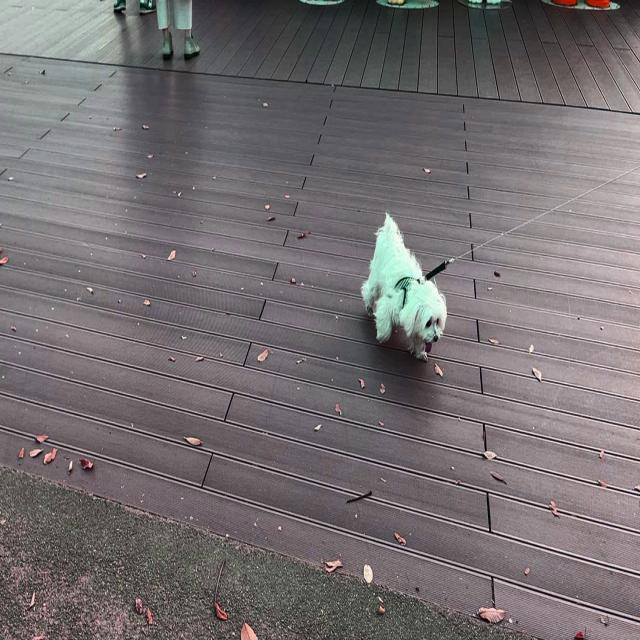Dog: (360, 213, 447, 362)
